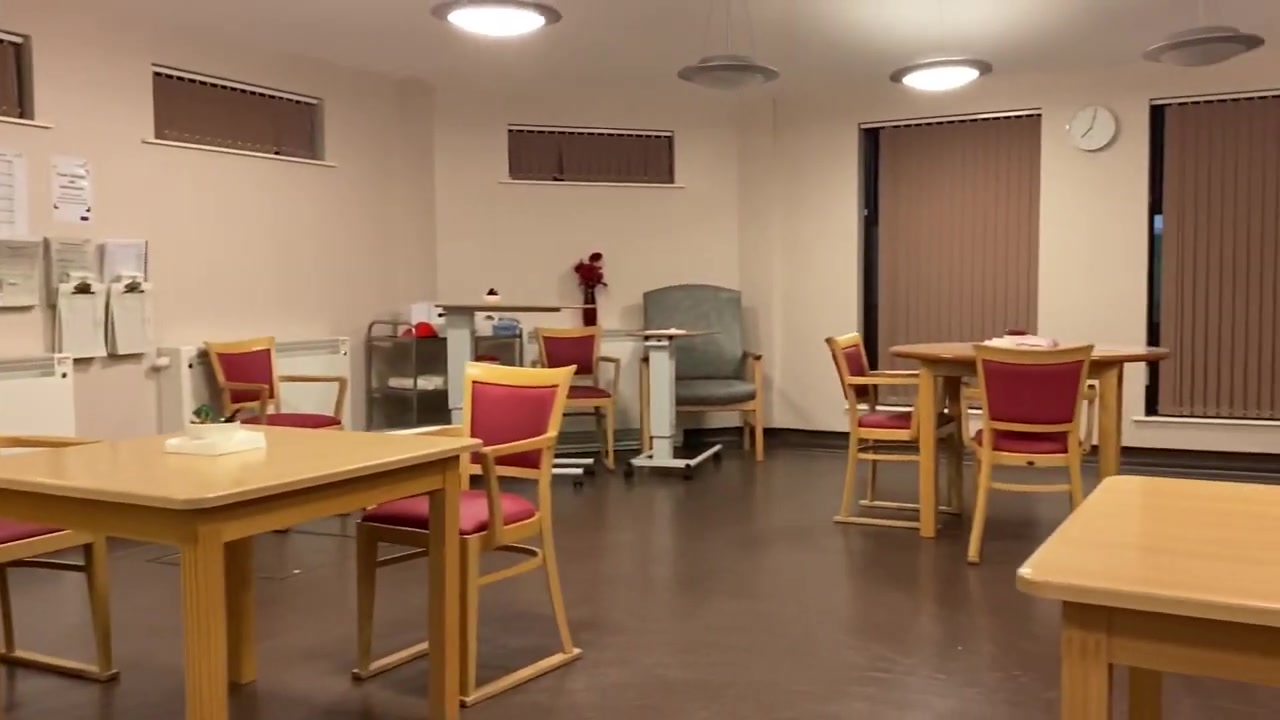chair: (351, 361, 584, 708), (960, 343, 1097, 564), (1, 433, 122, 683), (824, 332, 963, 529), (640, 284, 764, 460), (201, 334, 349, 430), (530, 325, 621, 470)
table: (1, 424, 482, 720), (1017, 475, 1280, 720), (889, 341, 1170, 537), (432, 303, 597, 489), (625, 326, 723, 478)
utility_cart: (365, 316, 526, 434)
